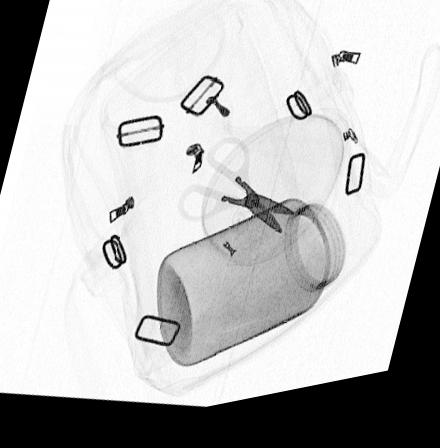Scissors: (174, 144, 298, 246)
